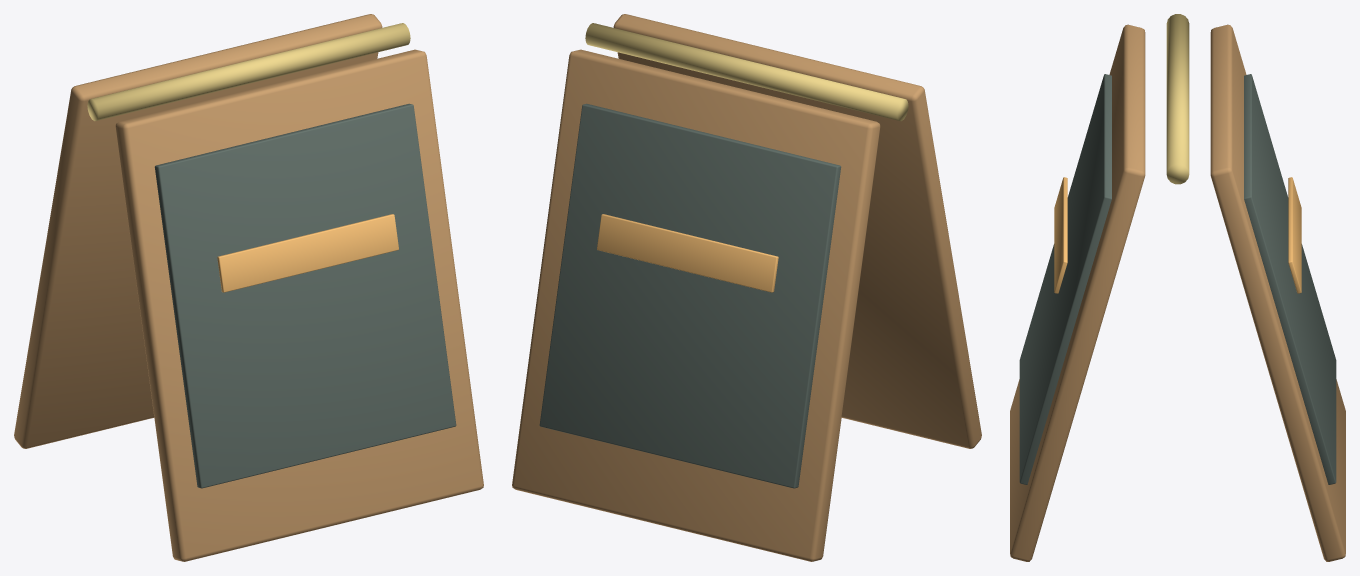
Rendered from obs_aframe_sign.glb.
The picture shows the model from 3 angles, left to right: view 1: azimuth 30°, elevation 25°; view 2: azimuth 150°, elevation 25°; view 3: azimuth 270°, elevation 25°; orthographic projection.
Parts seen in each view (by area): view 1: BoardFace_-1, BoardFrame_-1, BoardFrame_1, TopHinge, ChalkTitle_-1; view 2: BoardFace_1, BoardFrame_1, BoardFrame_-1, TopHinge, ChalkTitle_1; view 3: BoardFrame_-1, BoardFrame_1, BoardFace_-1, BoardFace_1, TopHinge, ChalkTitle_-1, ChalkTitle_1.
Part boxes in pixels (<box>): BoardFace_-1: <box>154,103,456,488</box>; BoardFrame_-1: <box>115,49,483,561</box>; BoardFrame_1: <box>14,14,382,448</box>; TopHinge: <box>87,23,410,121</box>; ChalkTitle_-1: <box>217,214,398,292</box>; BoardFace_1: <box>539,103,841,488</box>; BoardFrame_1: <box>512,49,880,561</box>; BoardFrame_-1: <box>613,14,981,448</box>; TopHinge: <box>585,23,908,121</box>; ChalkTitle_1: <box>597,214,778,292</box>; BoardFrame_-1: <box>1010,24,1145,561</box>; BoardFrame_1: <box>1210,24,1345,561</box>; BoardFace_-1: <box>1019,74,1111,484</box>; BoardFace_1: <box>1244,74,1336,484</box>; TopHinge: <box>1166,14,1189,184</box>; ChalkTitle_-1: <box>1054,177,1067,293</box>; ChalkTitle_1: <box>1288,177,1301,293</box>.
Size of the model in its own units: 0.78 by 0.9716 by 0.7368.
